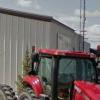Tractor: (18, 36, 100, 100)
